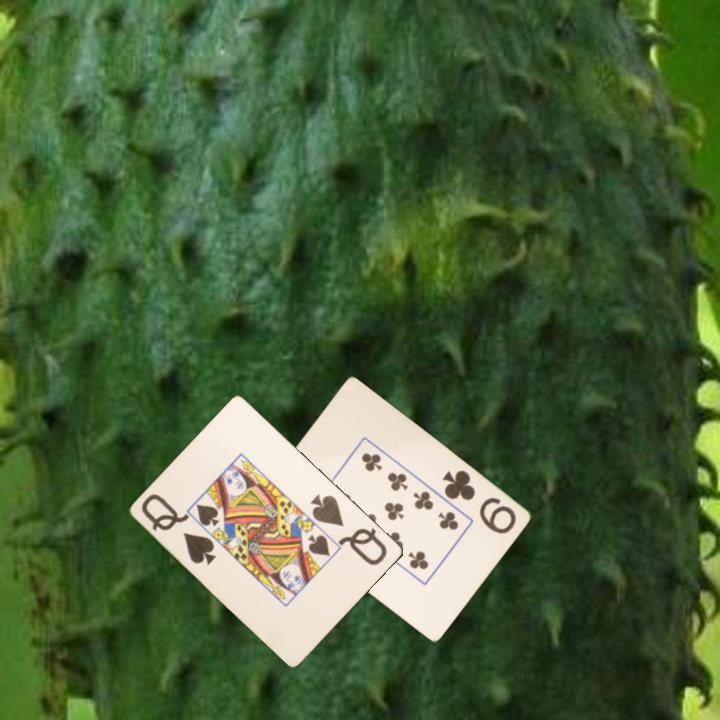9c: (438, 466, 519, 537)
Qs: (307, 490, 391, 569), (138, 490, 220, 568)
